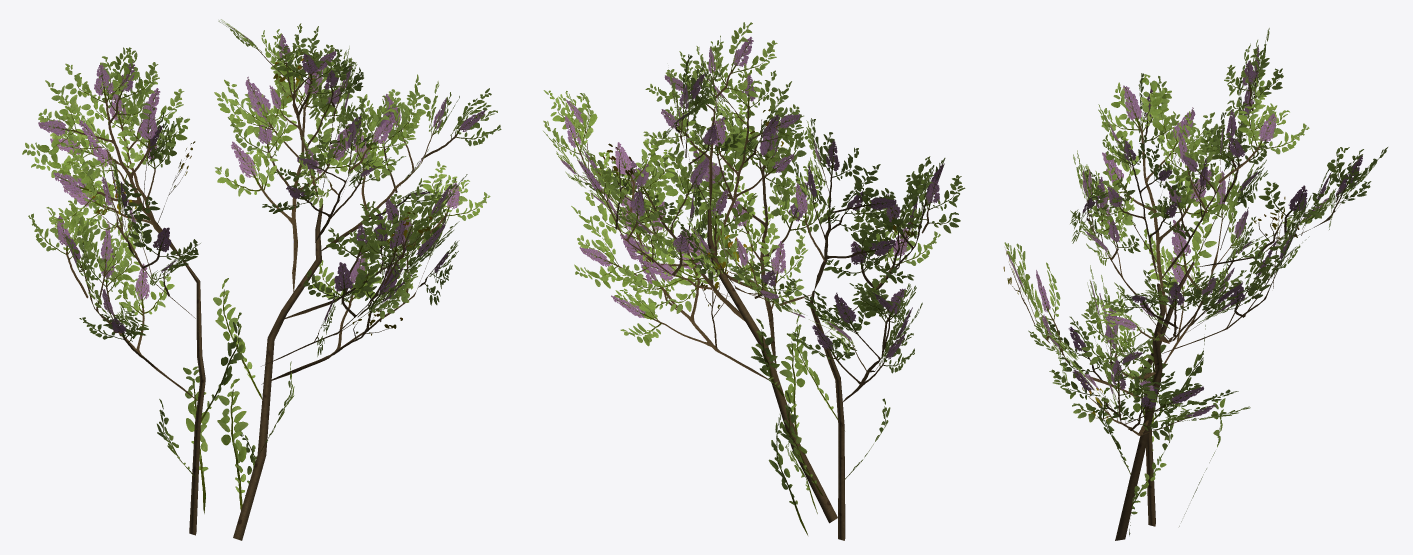
File: miracle-lilac-1.glb
3 views of the same model, side by side, from view 1: azimuth 30°, elevation 25°; view 2: azimuth 150°, elevation 25°; view 3: azimuth 270°, elevation 25° (orthographic). The views are drawn at different scales.
Visible parts, largest first — view 1: Lilac_small_bush_2_LOD1_Brunches_mat_0, Lilac_small_bush_2_LOD1_Bark_mat_0; view 2: Lilac_small_bush_2_LOD1_Brunches_mat_0, Lilac_small_bush_2_LOD1_Bark_mat_0; view 3: Lilac_small_bush_2_LOD1_Brunches_mat_0, Lilac_small_bush_2_LOD1_Bark_mat_0.
Part boxes in pixels (x1=…): Lilac_small_bush_2_LOD1_Brunches_mat_0: x1=22, y1=19, x2=501, y2=513; Lilac_small_bush_2_LOD1_Bark_mat_0: x1=182, y1=204, x2=323, y2=540; Lilac_small_bush_2_LOD1_Brunches_mat_0: x1=543, y1=22, x2=965, y2=535; Lilac_small_bush_2_LOD1_Bark_mat_0: x1=707, y1=209, x2=845, y2=540; Lilac_small_bush_2_LOD1_Brunches_mat_0: x1=1003, y1=28, x2=1387, y2=535; Lilac_small_bush_2_LOD1_Bark_mat_0: x1=1115, y1=262, x2=1194, y2=540.
Size of the model in its own units: 0.9057 by 0.95 by 0.7034.
Materials: 2 (2 with a texture image).
